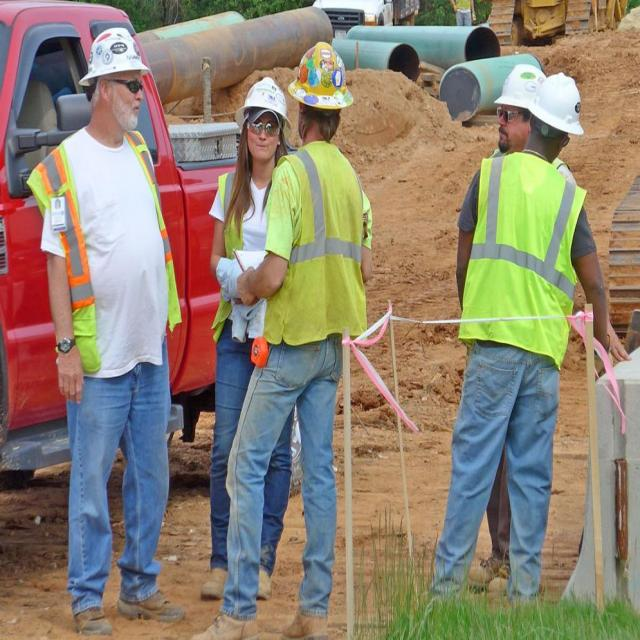Reflective-Jacket: (33, 130, 182, 376), (454, 149, 586, 362), (268, 144, 374, 348)
Safety-Helmet: (287, 39, 357, 112), (78, 22, 152, 90), (531, 70, 587, 137), (492, 56, 546, 116), (235, 72, 289, 125)
